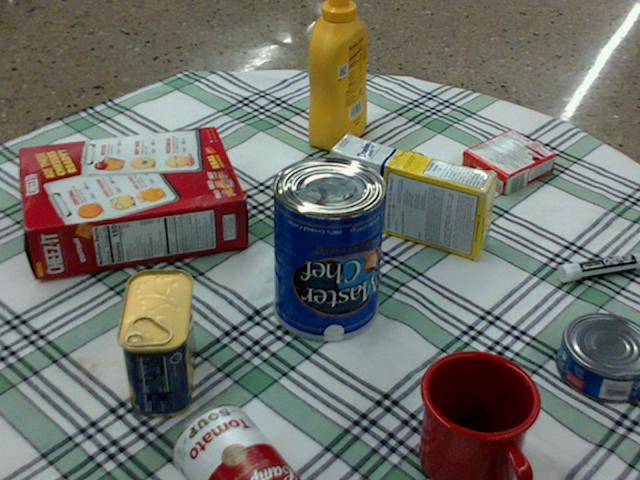cracker_box: (19, 128, 244, 278)
gelatin_box: (460, 129, 554, 195)
large_marker: (558, 253, 639, 281)
master_chef_can: (273, 156, 387, 340)
mug: (417, 351, 539, 479)
mustard_bottle: (307, 0, 366, 149)
potted_meat_can: (117, 269, 194, 416)
sugar_box: (328, 135, 497, 260)
tomato_soup_can: (172, 405, 296, 479)
tuna_fish_can: (557, 313, 639, 402)
